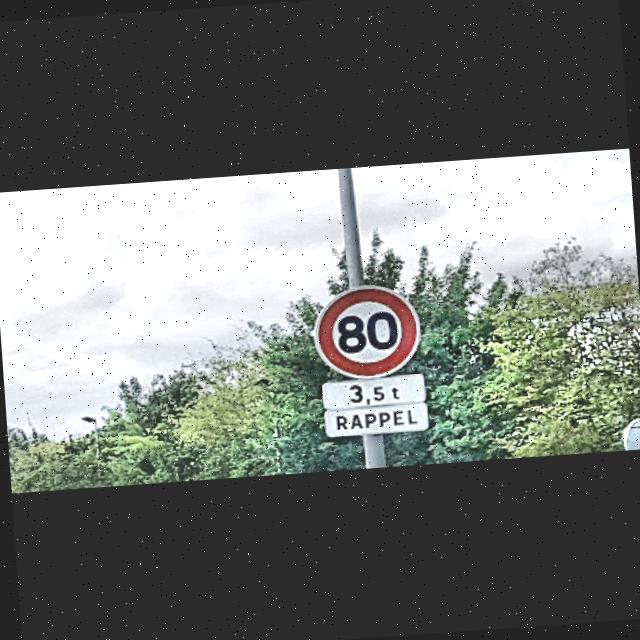speed_80: (312, 282, 422, 383)
